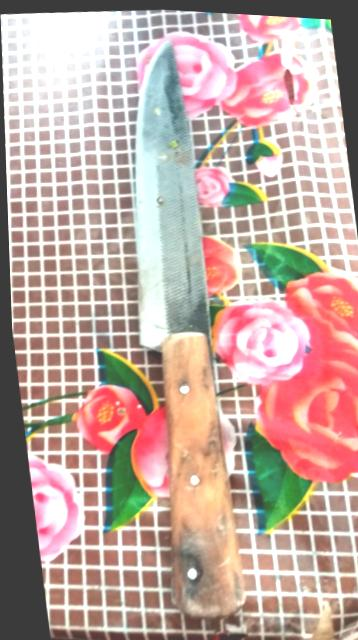Knife: (134, 42, 243, 617)
